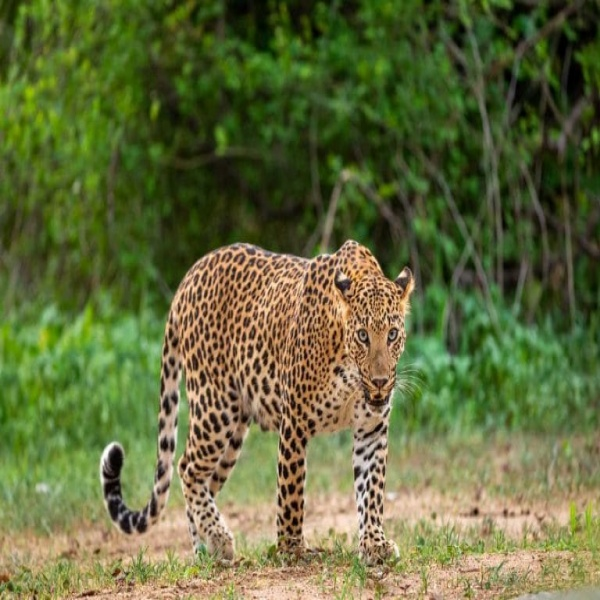Leopard: (102, 238, 420, 579)
